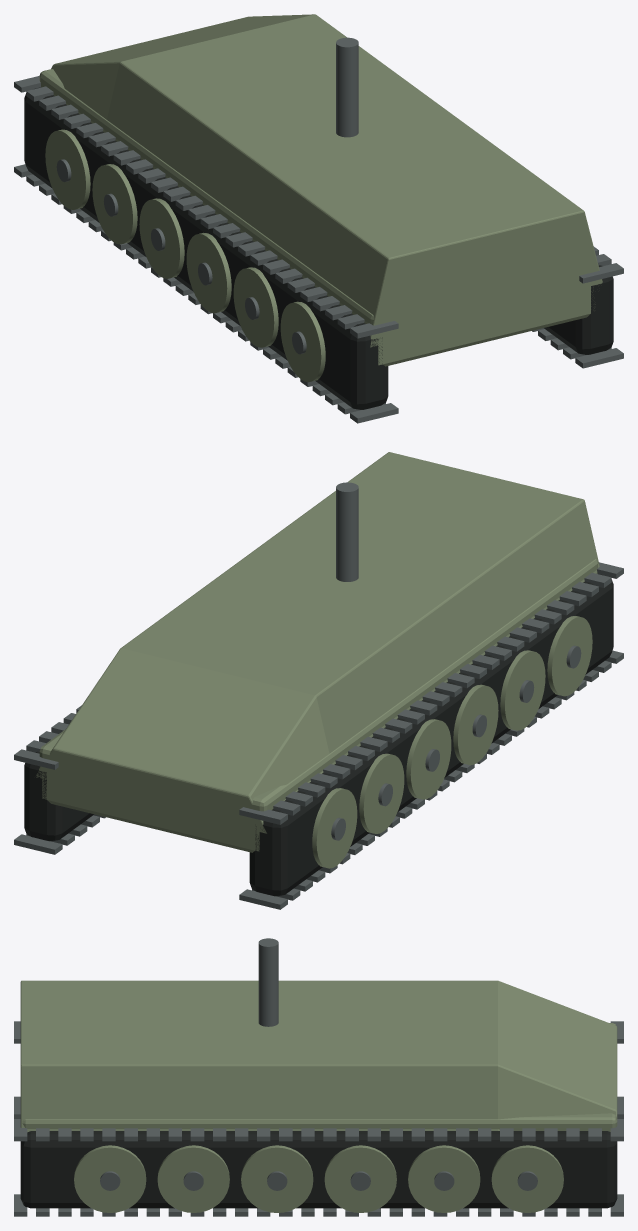
3 views of the same model, one above another, from view 1: azimuth 30°, elevation 25°; view 2: azimuth 150°, elevation 25°; view 3: azimuth 270°, elevation 25° (orthographic). The views are drawn at different scales.
Visible parts, largest first — view 1: Hull_MVP olive paint, RunningGear_MVP olive paint, RunningGear_MVP rubber, RunningGear_MVP exposed metal, Hull_MVP exposed metal; view 2: Hull_MVP olive paint, RunningGear_MVP exposed metal, RunningGear_MVP olive paint, RunningGear_MVP rubber, Hull_MVP exposed metal; view 3: Hull_MVP olive paint, RunningGear_MVP olive paint, RunningGear_MVP rubber, RunningGear_MVP exposed metal, Hull_MVP exposed metal.
Part boxes in pixels (<box>): Hull_MVP olive paint: <box>39,14,602,366</box>; RunningGear_MVP olive paint: <box>45,129,325,382</box>; RunningGear_MVP rubber: <box>24,87,613,409</box>; RunningGear_MVP exposed metal: <box>14,76,623,423</box>; Hull_MVP exposed metal: <box>336,37,358,137</box>; Hull_MVP olive paint: <box>36,452,599,852</box>; RunningGear_MVP exposed metal: <box>14,562,623,909</box>; RunningGear_MVP olive paint: <box>312,616,592,868</box>; RunningGear_MVP rubber: <box>24,573,613,896</box>; Hull_MVP exposed metal: <box>336,482,358,581</box>; Hull_MVP olive paint: <box>20,980,617,1132</box>; RunningGear_MVP olive paint: <box>74,1145,563,1212</box>; RunningGear_MVP rubber: <box>20,1131,617,1208</box>; RunningGear_MVP exposed metal: <box>14,1021,623,1216</box>; Hull_MVP exposed metal: <box>258,938,278,1026</box>.
Size of the model in its own units: 3.39 by 2.84 by 7.26.
